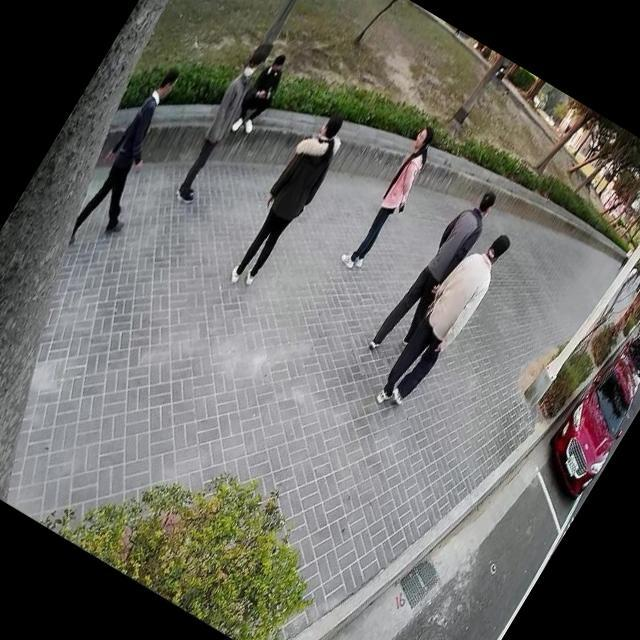person: (366, 210, 524, 426), (56, 56, 211, 263), (216, 96, 362, 297), (363, 170, 508, 370), (163, 38, 283, 210), (332, 116, 452, 281), (223, 44, 300, 142)
